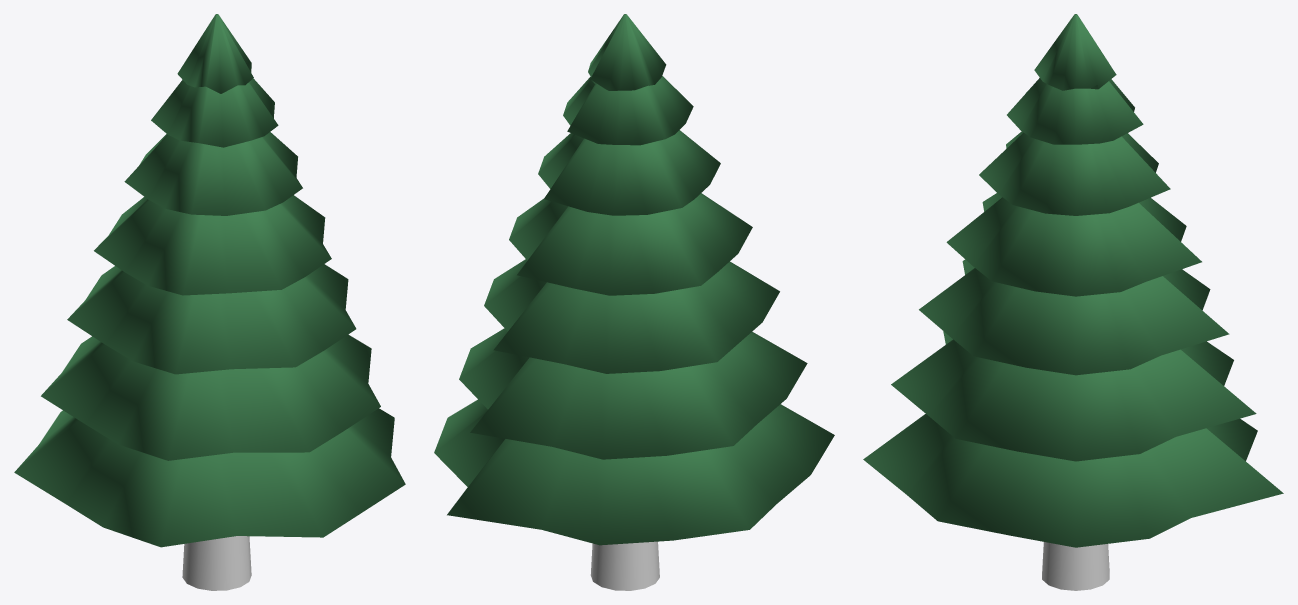
The model's file is 02_Cam_Agaci.fbx.
3 views of the same model, side by side, from view 1: azimuth 30°, elevation 25°; view 2: azimuth 150°, elevation 25°; view 3: azimuth 270°, elevation 25° (orthographic).
Parts seen in each view (by area): view 1: 02_Cam_Agaci; view 2: 02_Cam_Agaci; view 3: 02_Cam_Agaci.
Part boxes in pixels (x1=…): 02_Cam_Agaci: x1=14, y1=14, x2=405, y2=590; 02_Cam_Agaci: x1=434, y1=14, x2=834, y2=590; 02_Cam_Agaci: x1=863, y1=14, x2=1283, y2=590.
Size of the model in its own units: 477 by 750 by 509.
